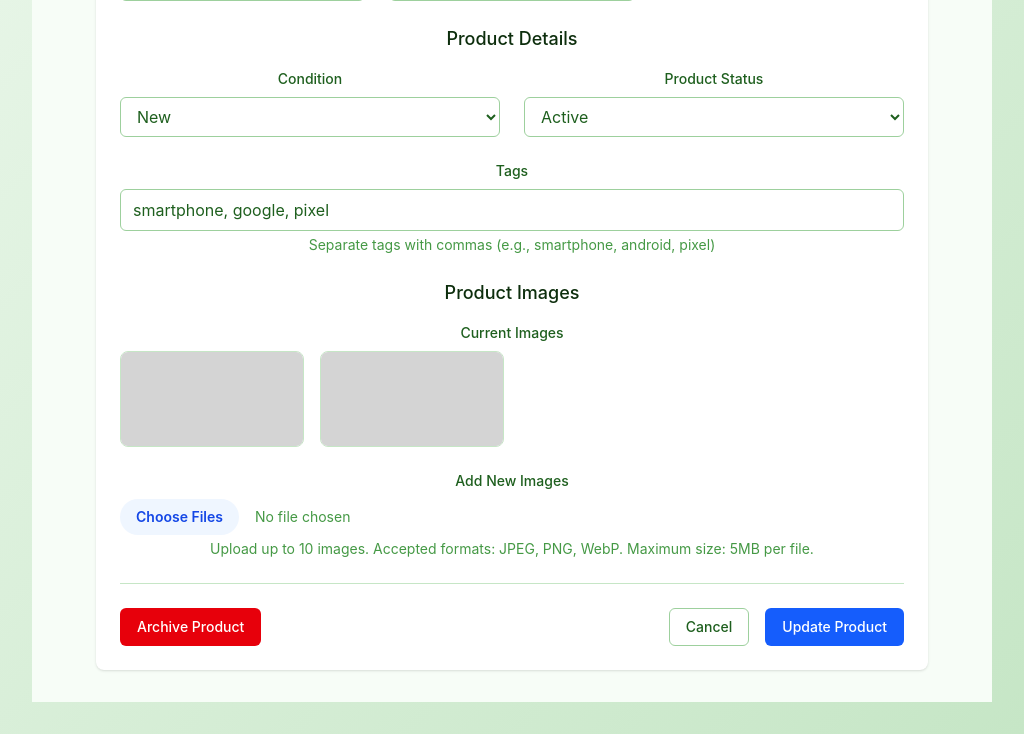
it: AdminProductFormPage - Delete Product Functionality › Delete Confirmation Modal › should display correct product name in confirmation modal
The image size is (1024, 734).
(page scrolled)
Click the button "Archive Product" at (191, 627), box [120,608,261,646]
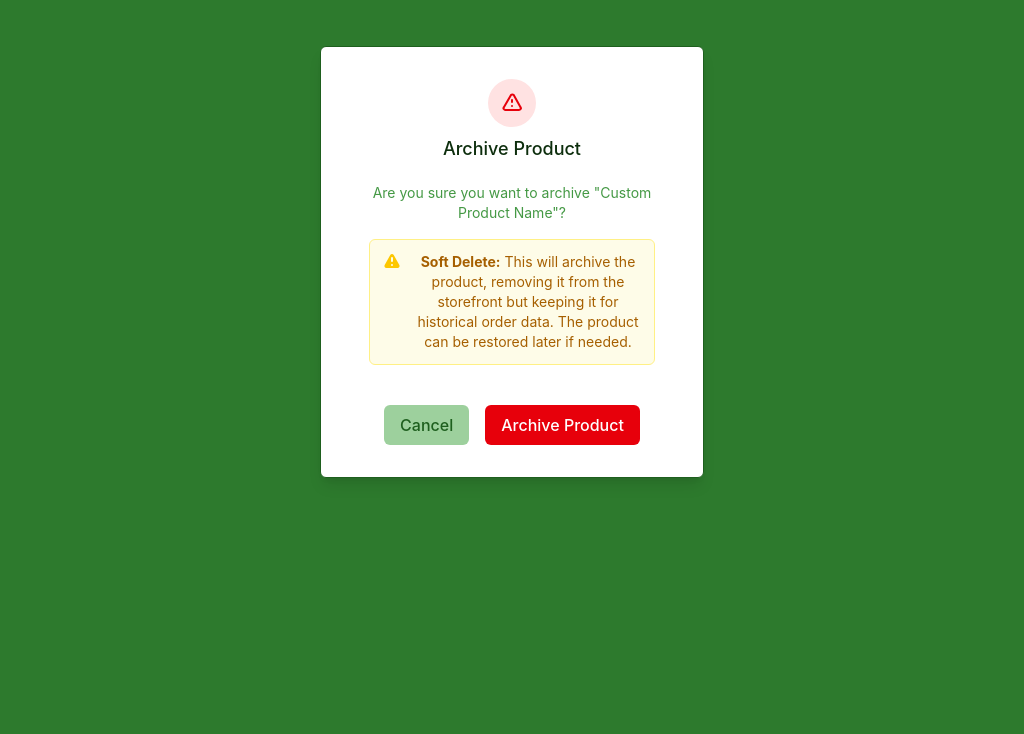
Result: the text "Are you sure you want to archive \"Custom Product Name\"?" is shown at [369,183,655,223]
